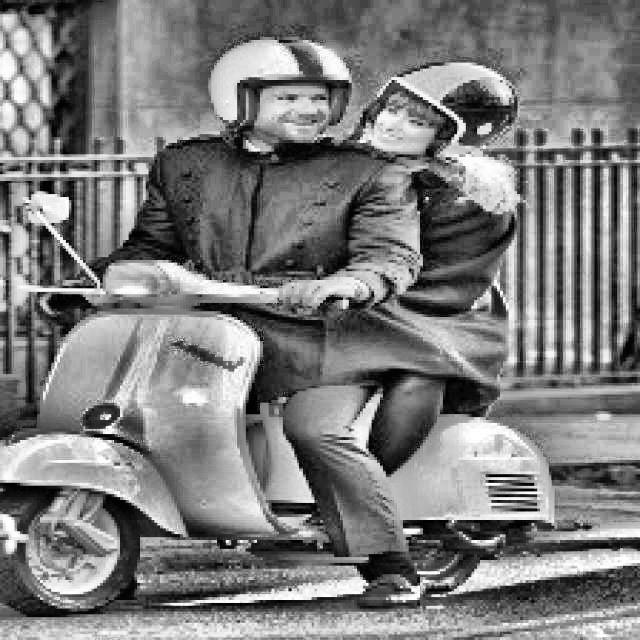motorcycle: (0, 178, 563, 612)
